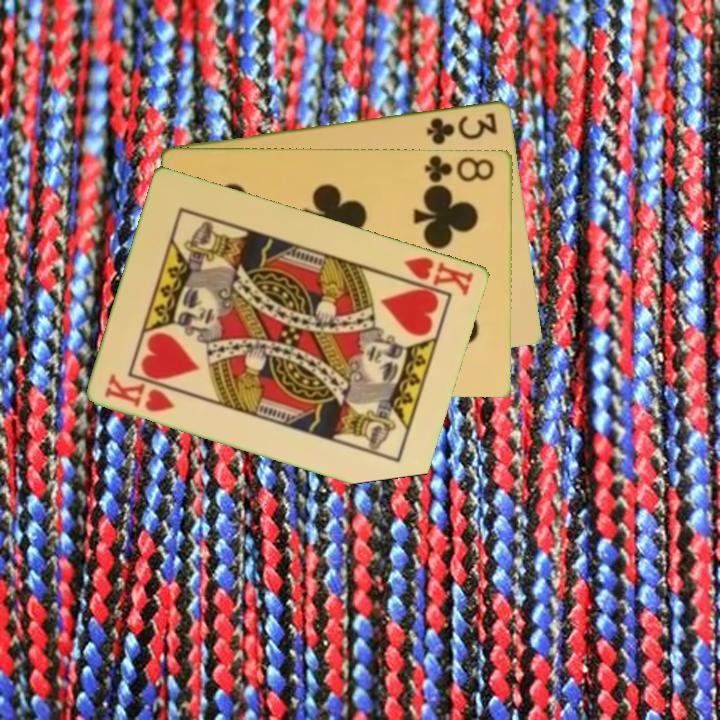3c: (423, 108, 501, 147)
8c: (422, 152, 498, 187)
Kh: (391, 253, 477, 298), (101, 369, 178, 415)
